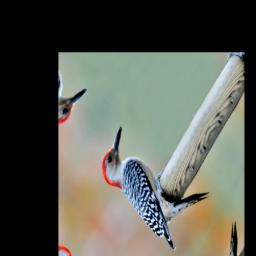Woodpecker: (88, 99, 219, 256)
